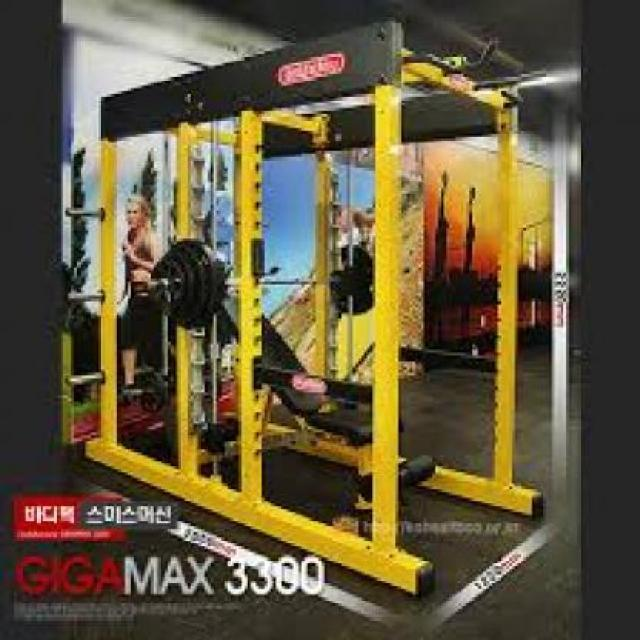smith machine: (85, 22, 546, 496)
